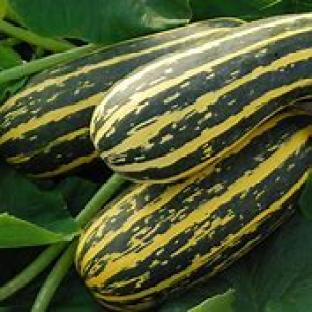Zucchini: (76, 113, 311, 310), (0, 18, 243, 178), (90, 14, 311, 182)
